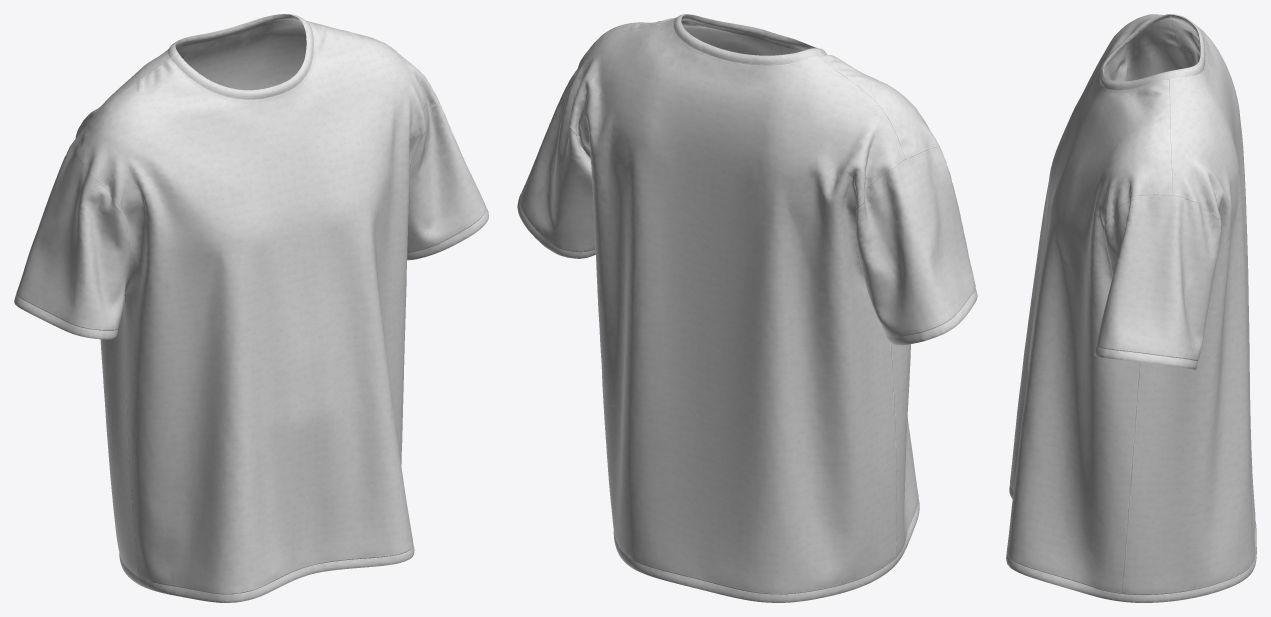
Rendered from t-shirt.glb.
The picture shows the model from 3 angles, left to right: view 1: azimuth 30°, elevation 25°; view 2: azimuth 150°, elevation 25°; view 3: azimuth 270°, elevation 25°; orthographic projection. The views are drawn at different scales.
Parts seen in each view (by area): view 1: Object_2; view 2: Object_2; view 3: Object_2.
Part boxes in pixels (x1=…): Object_2: x1=14, y1=14, x2=488, y2=602; Object_2: x1=517, y1=14, x2=977, y2=602; Object_2: x1=1006, y1=14, x2=1256, y2=602.
Size of the model in its own units: 0.637 by 0.7108 by 0.3212.
1 material, 1 textured.
